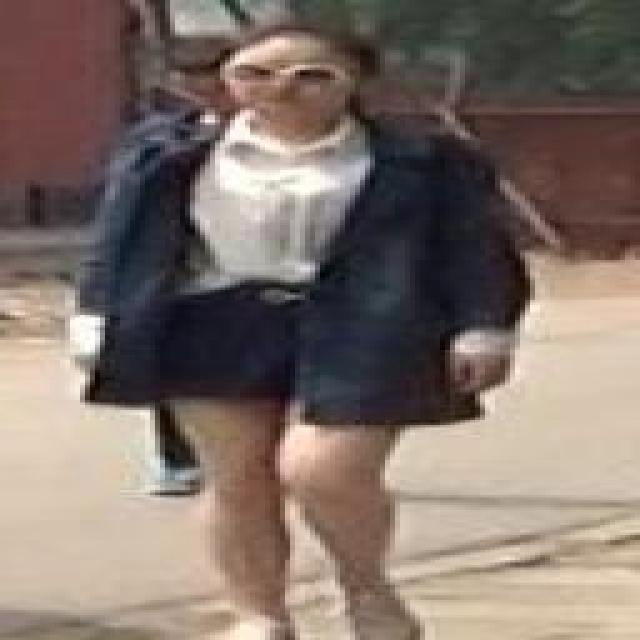adult: (65, 20, 530, 640)
